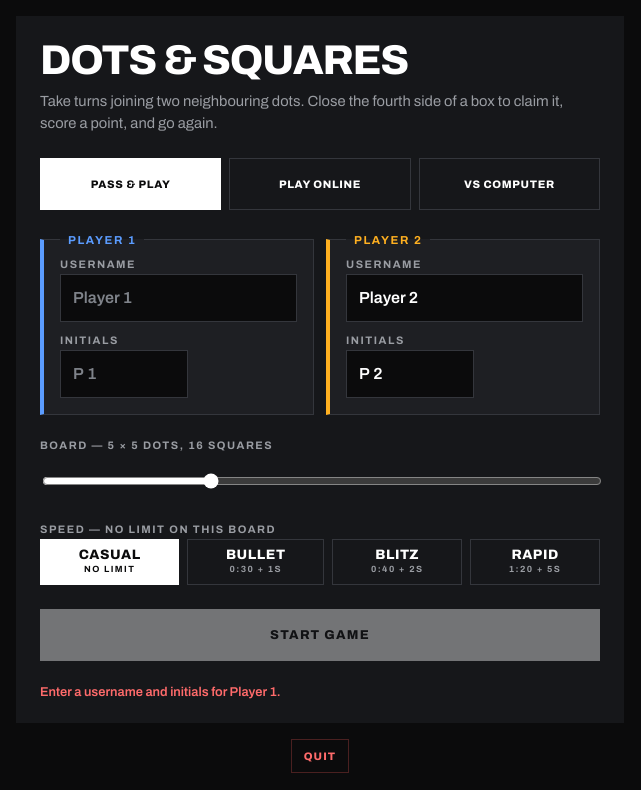
it: the public lobby, through the app › will not let a nameless player browse
Click the button "Play Online" at x=320, y=184, box [229,158,411,210]
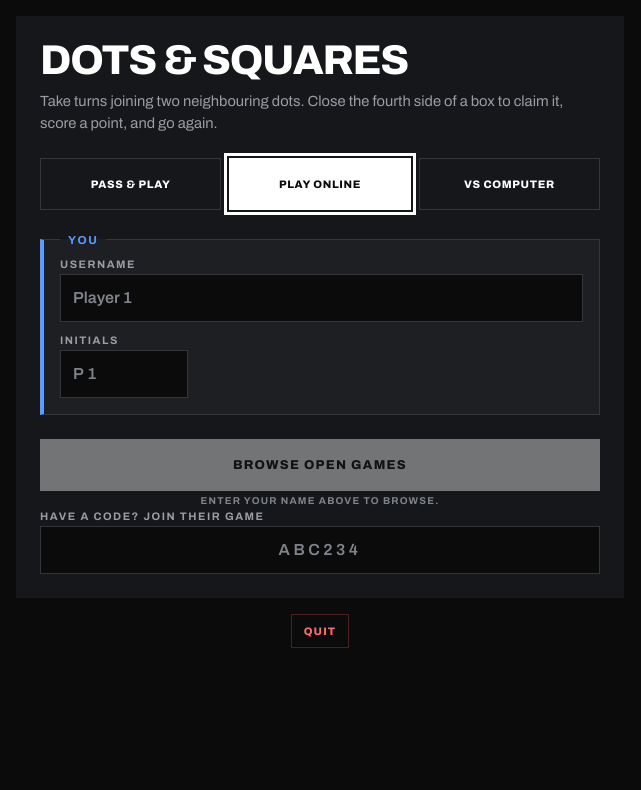
expect the button "Browse Open Games" is disabled: met, box [40,439,600,491]
